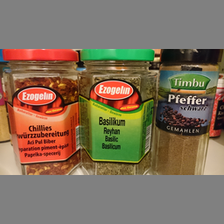spices: (78, 50, 159, 173), (1, 49, 80, 175), (153, 49, 221, 174)
